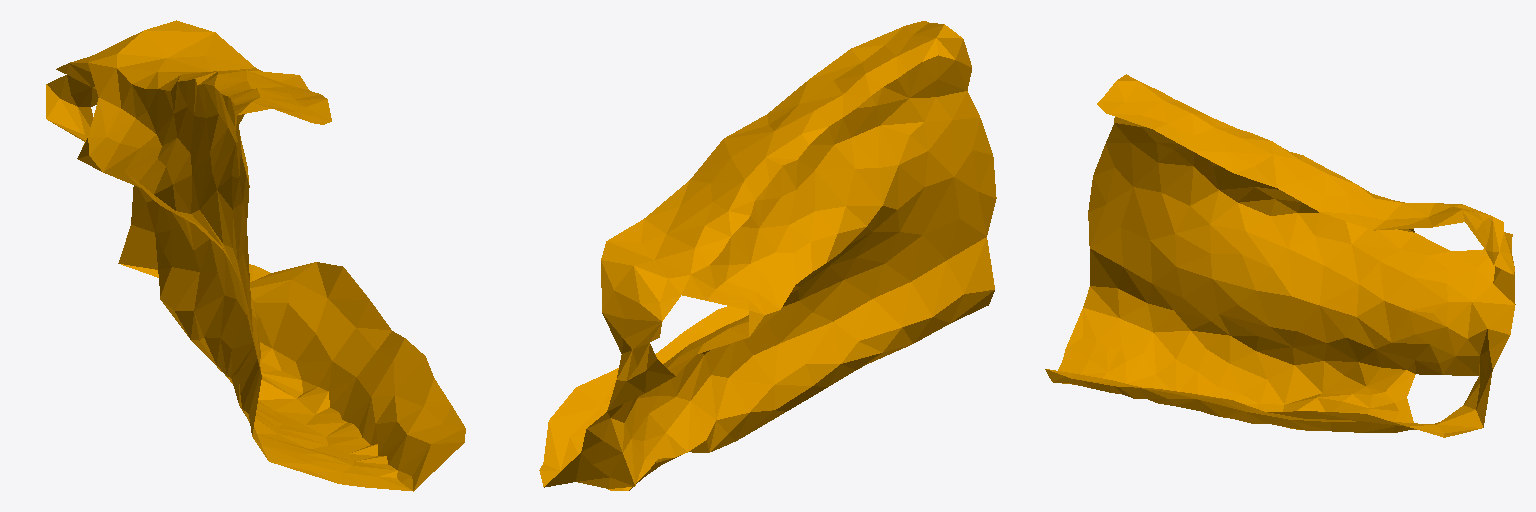
URDF robot description (init):
<?xml version='1.0' encoding='utf-8'?>
<robot name="init">
<link name="link_0"><inertial><mass value="1.0" /><origin rpy="0 0 0" xyz="0.000000 0.000000 0.000000" /><inertia ixx="1.0" ixy="0.0" ixz="0.0" iyy="1.0" iyz="0.0" izz="1.0" /></inertial><visual><origin rpy="0 0 0" xyz="0.000000 0.000000 0.000000" /><geometry><mesh filename="./clothHuman/cloth/331.obj" /></geometry></visual><collision><origin rpy="0 0 0" xyz="0.000000 0.000000 0.000000" /><geometry><mesh filename="./clothHuman/cloth/331.obj" /></geometry></collision></link></robot>

--- Facts derived from the render (not from the file) ---
The picture shows the robot from 3 angles, left to right: view 1: azimuth 30°, elevation 25°; view 2: azimuth 150°, elevation 25°; view 3: azimuth 270°, elevation 25°; orthographic projection.
Model init with 1 links and 0 joints (none), rooted at link_0, posed all joints at 0.
Links seen in each view (by area): view 1: link_0; view 2: link_0; view 3: link_0.
Boxes of the visible links, bbox=[...] form: link_0: bbox=[46, 20, 465, 491]; link_0: bbox=[539, 21, 996, 490]; link_0: bbox=[1045, 74, 1515, 437].
Size in the robot's own frame: 1.99 by 3.95 by 2.75 metres.
1 mesh visuals loaded from 1 distinct referenced files (1 OBJ).